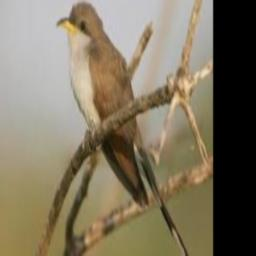Cuckoo: (57, 1, 191, 256)
